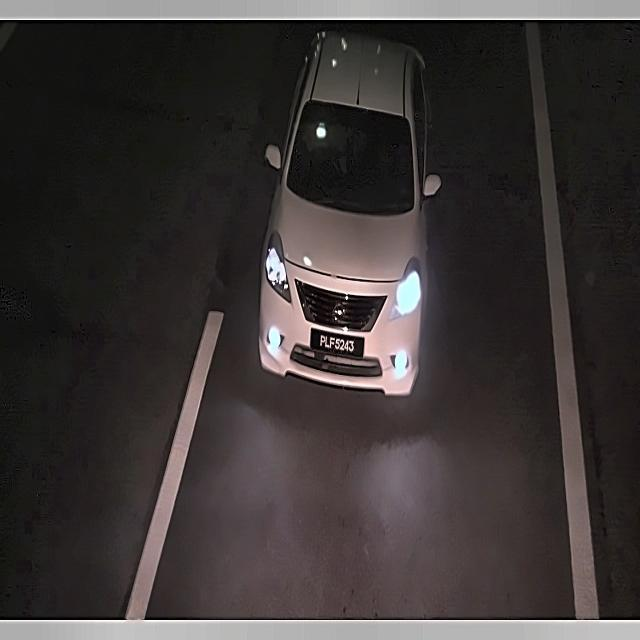car: (311, 329, 364, 364)
